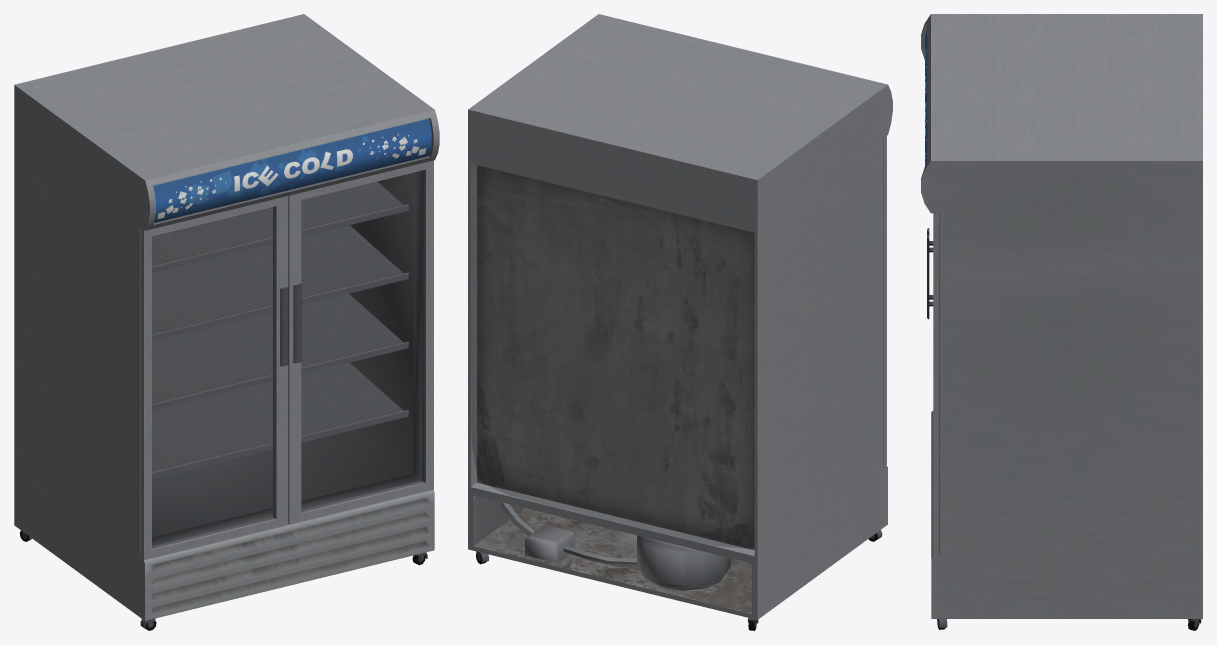
The model's file is SM_Drinks_Fridge_01.glb.
3 renders of one model, left to right at view 1: azimuth 30°, elevation 25°; view 2: azimuth 150°, elevation 25°; view 3: azimuth 270°, elevation 25°, orthographic. The views are drawn at different scales.
Visible parts, largest first — view 1: SM_Drinks_Fridge_01; view 2: SM_Drinks_Fridge_01; view 3: SM_Drinks_Fridge_01.
Boxes of the visible parts, <box> form: SM_Drinks_Fridge_01: <box>14,14,439,630</box>; SM_Drinks_Fridge_01: <box>468,14,892,630</box>; SM_Drinks_Fridge_01: <box>921,14,1202,630</box>.
Bounding box in the file's own units: 1.46 × 2.2 × 1.19.
2 materials, 2 textured.
